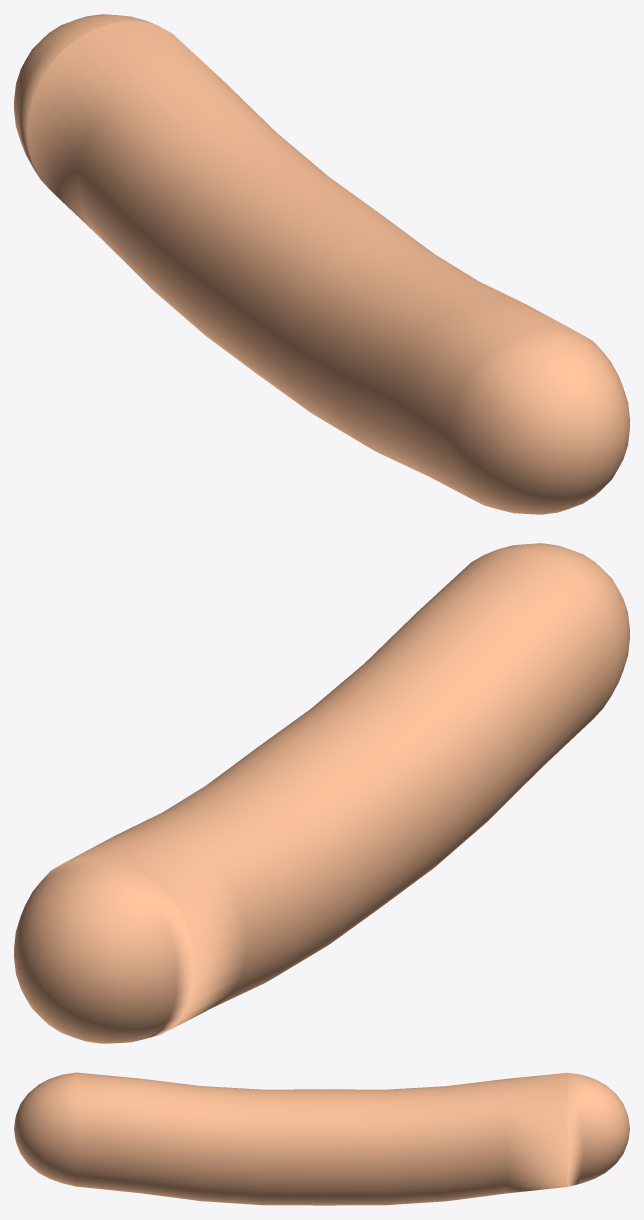
The model's file is raw_sausage.fbx.
3 views of the same model, one above another, from view 1: azimuth 30°, elevation 25°; view 2: azimuth 150°, elevation 25°; view 3: azimuth 270°, elevation 25° (orthographic). The views are drawn at different scales.
Visible parts, largest first — view 1: HotDog_raw; view 2: HotDog_raw; view 3: HotDog_raw.
Boxes of the visible parts, <box> form: HotDog_raw: <box>14,14,629,514</box>; HotDog_raw: <box>14,543,629,1043</box>; HotDog_raw: <box>14,1072,629,1205</box>.
Bounding box in the file's own units: 116 × 135 × 623.
